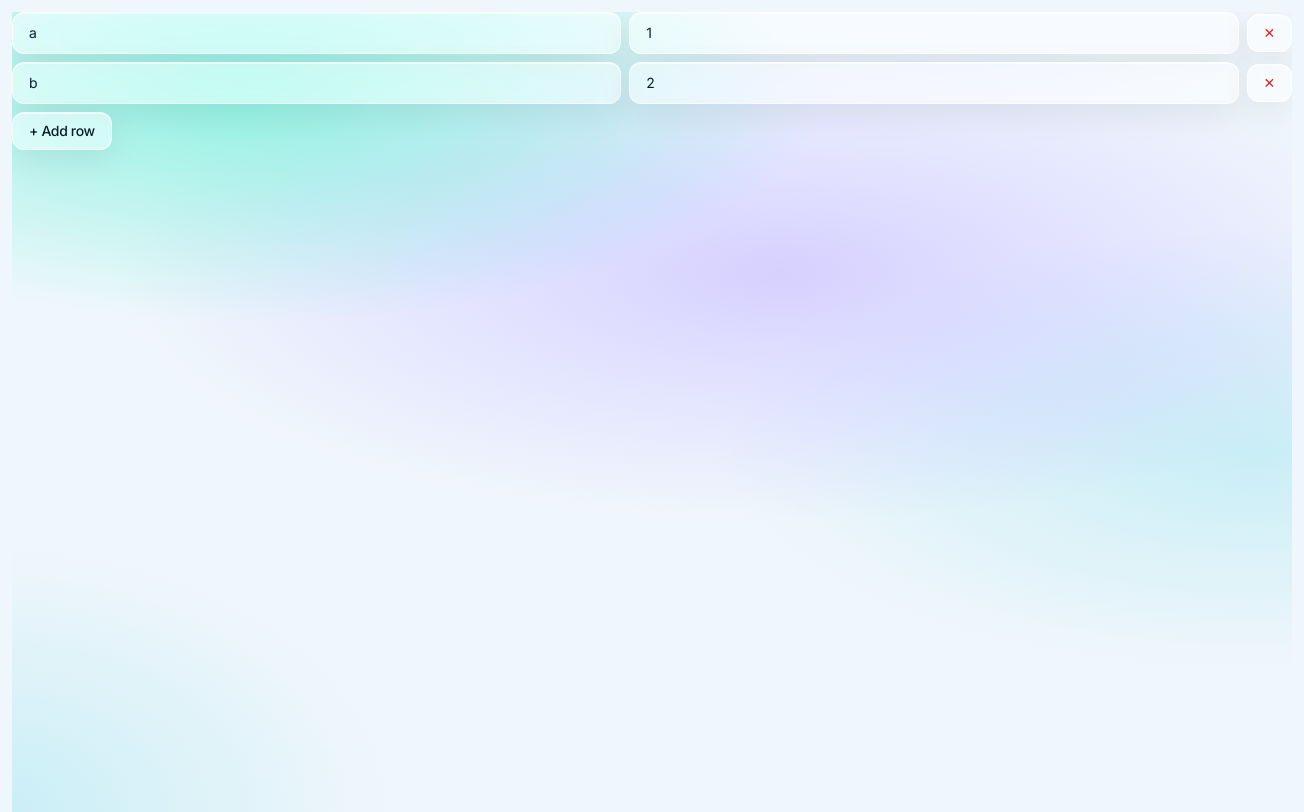
Test: KeyValueEditor › removes the clicked row
The image size is (1304, 812).
What coordinates should you click on to do the following:
click the button named "remove headers row 1"
I would click on:
 (1269, 33)
Its box is [1247,14,1292,52].
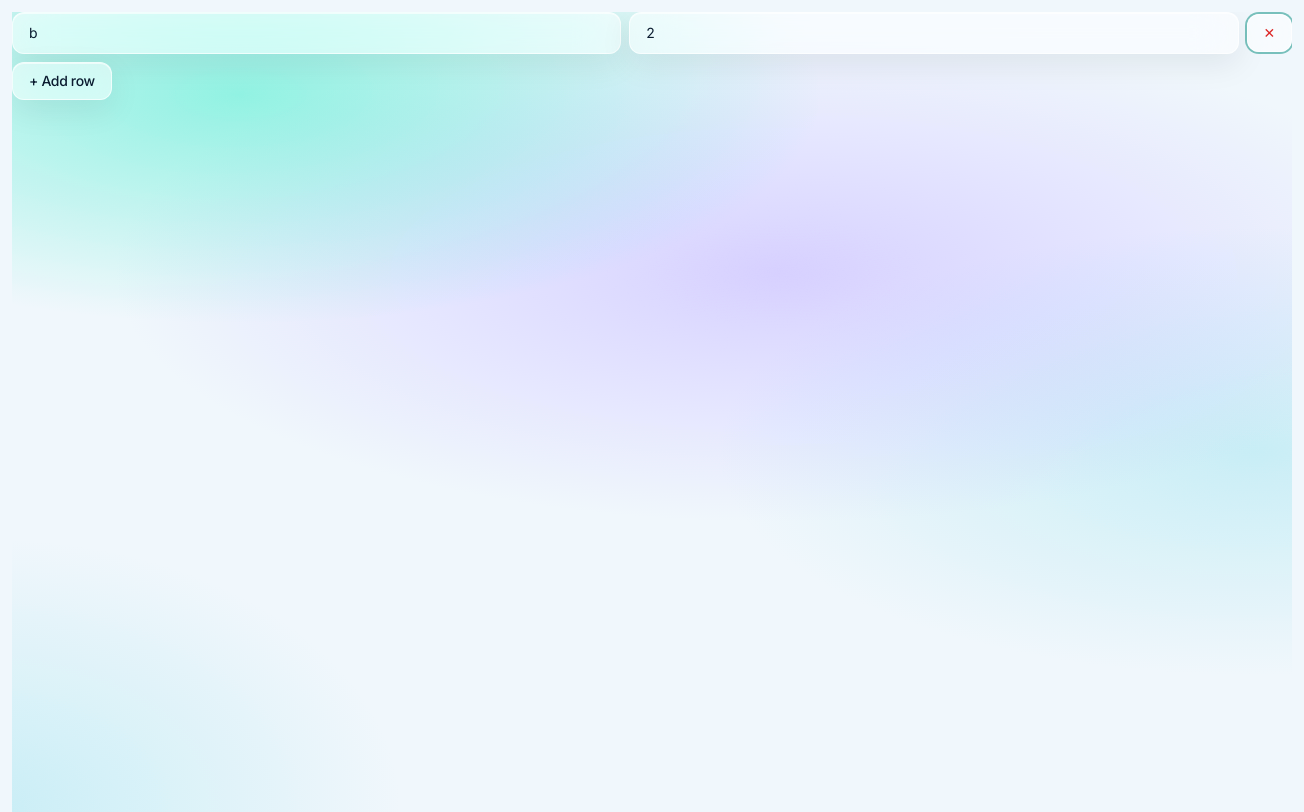
Now the field named "headers key 1" holds "b", box [12,12,621,54]
